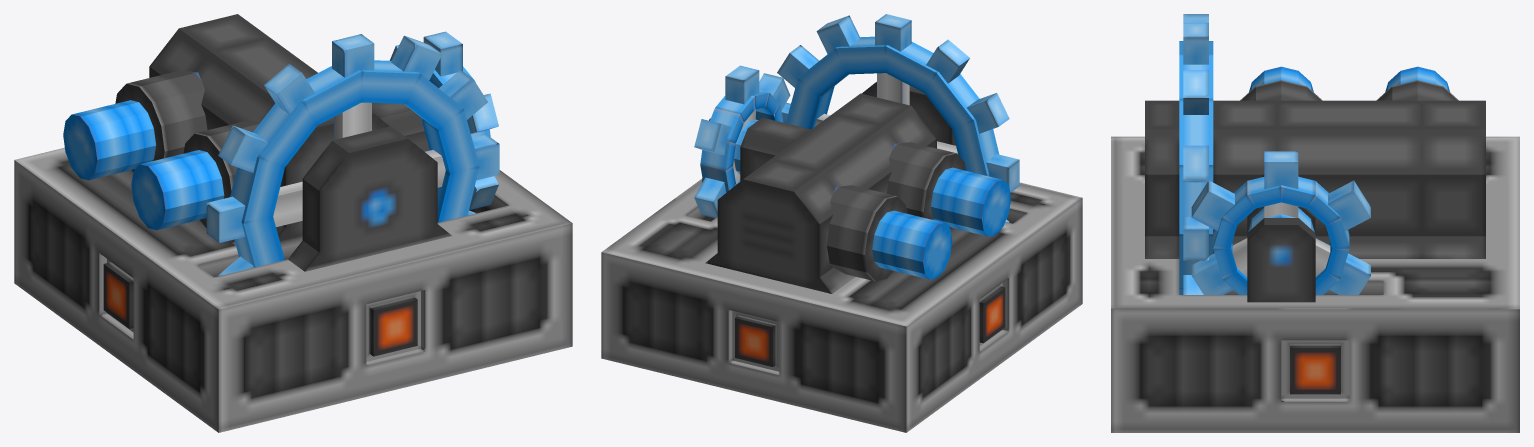
File: stirling_creative.obj
3 renders of one model, left to right at view 1: azimuth 30°, elevation 25°; view 2: azimuth 150°, elevation 25°; view 3: azimuth 270°, elevation 25°, orthographic. The views are drawn at different scales.
Visible parts, largest first — view 1: Base, Cog, Piston, CogSmall; view 2: Base, Cog, Piston, CogSmall; view 3: Base, CogSmall, Cog, Piston.
Part boxes in pixels (box(x1,y1,x2,y2)): Base: box(14, 14, 572, 432); Cog: box(206, 34, 499, 276); Piston: box(63, 100, 224, 230); CogSmall: box(390, 31, 498, 210); Base: box(601, 81, 1082, 432); Cog: box(777, 14, 1019, 222); Piston: box(872, 167, 1010, 279); CogSmall: box(694, 65, 790, 218); Base: box(1111, 80, 1519, 432); CogSmall: box(1191, 151, 1370, 294); Cog: box(1179, 14, 1213, 294); Piston: box(1249, 66, 1449, 92).
Bounding box in the file's own units: 3 × 2.56 × 3.
